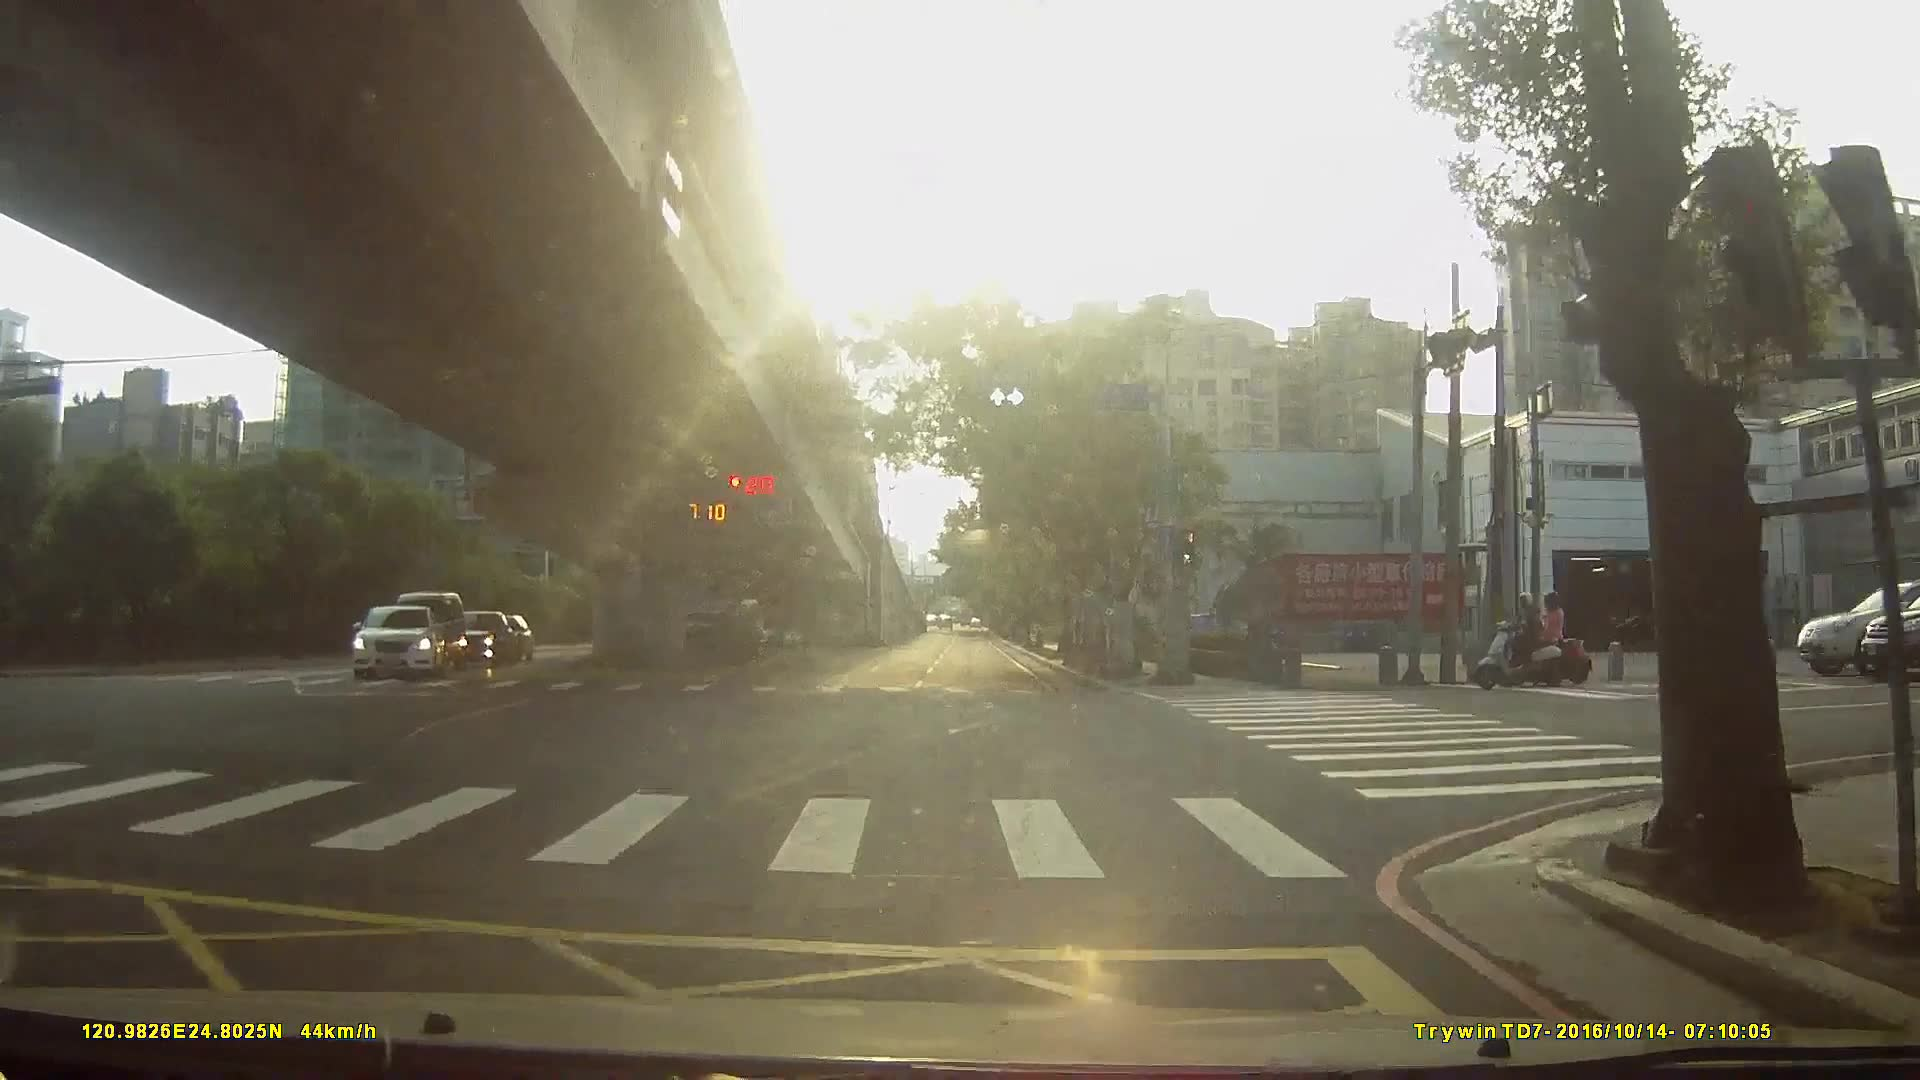rider: (1475, 589, 1565, 687)
vehicle: (1805, 579, 1920, 679), (343, 604, 438, 681), (656, 606, 762, 669), (441, 607, 516, 668)
